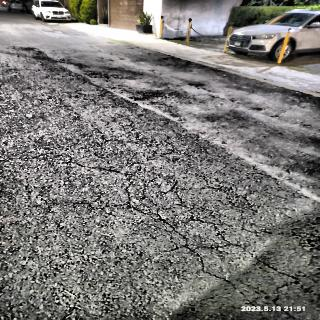alligator-crack: (120, 166, 320, 317)
